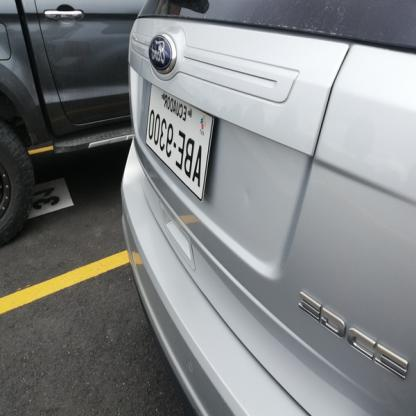Placa: (135, 81, 224, 206)
